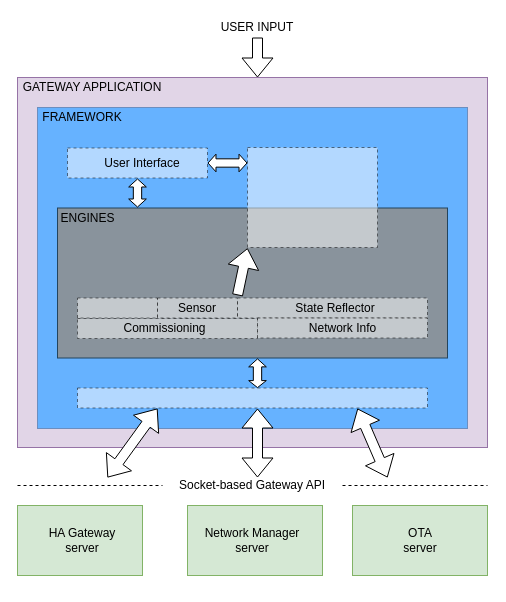
Image size: 506x602. Some labels were removed from this diagram. Each missing label, with the centre of its shape:
"Actions" belongs at (117,307).
"Display Information" belongs at (312,197).
"TCP Socket Send/Receive" belongs at (252,397).
